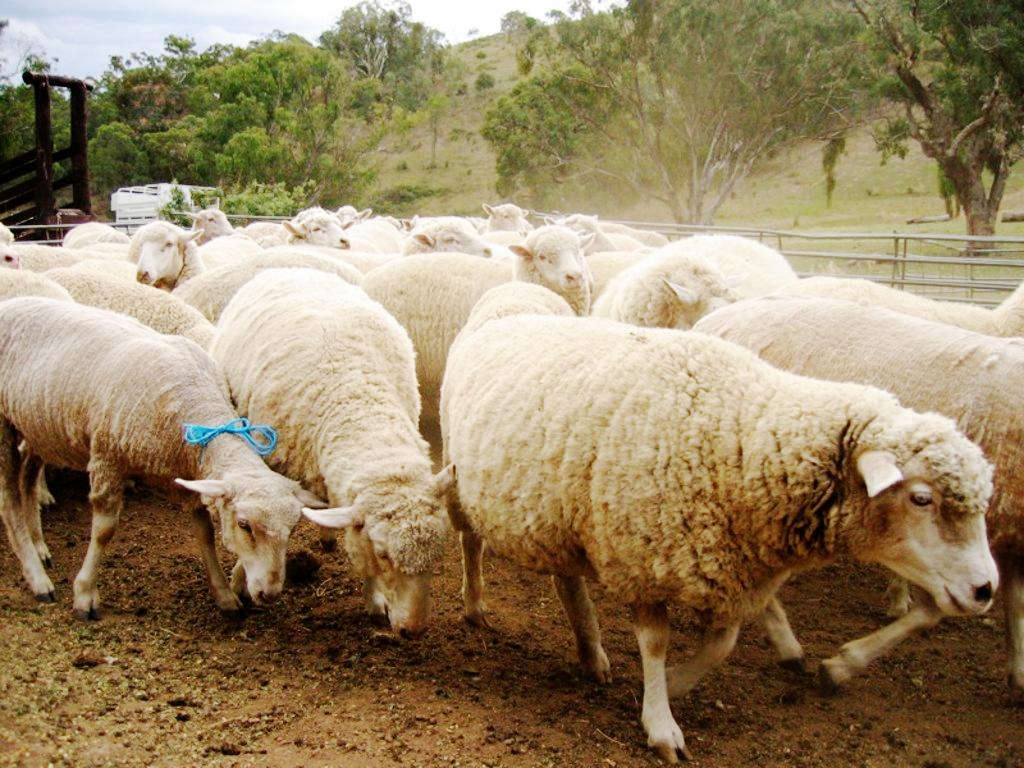Sheep: (436, 308, 1005, 768), (687, 292, 1024, 705), (0, 282, 313, 672), (222, 258, 470, 646), (337, 225, 609, 401), (233, 218, 497, 310), (125, 215, 281, 299), (210, 206, 369, 276)
